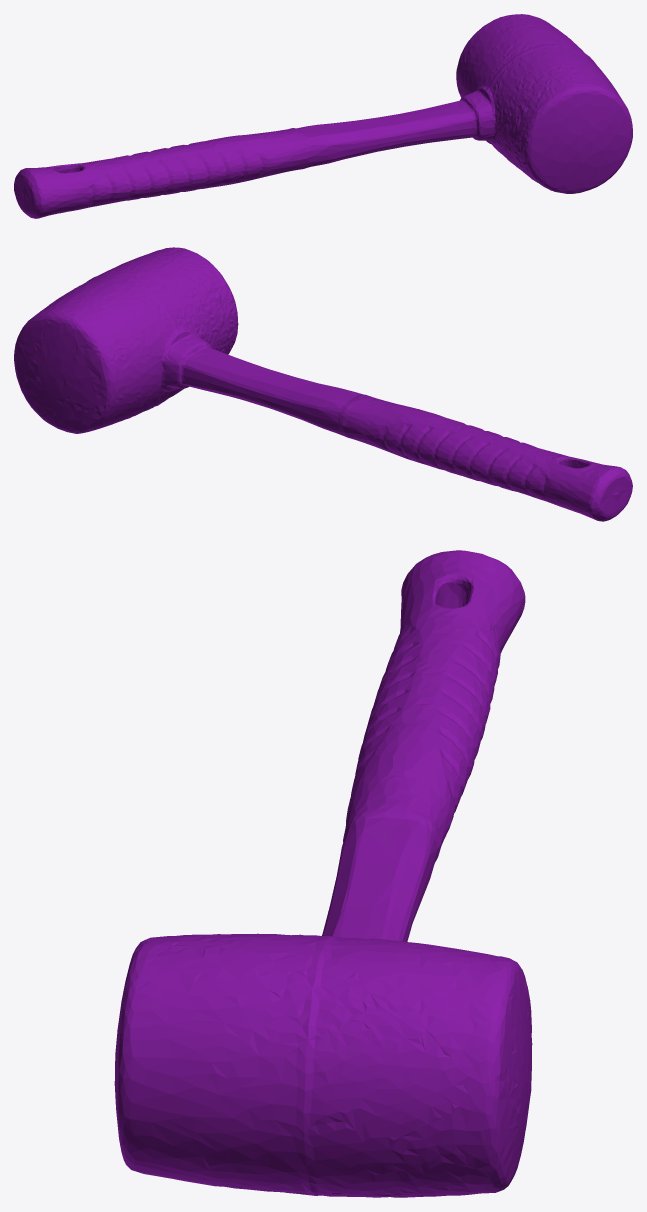
File: hammer_model_m.obj
3 views of the same model, one above another, from view 1: azimuth 30°, elevation 25°; view 2: azimuth 150°, elevation 25°; view 3: azimuth 270°, elevation 25° (orthographic). The views are drawn at different scales.
Parts seen in each view (by area): view 1: model.obj; view 2: model.obj; view 3: model.obj.
Part boxes in pixels (x1,y1,x2,y2): model.obj: (14, 14, 632, 218); model.obj: (14, 247, 632, 521); model.obj: (114, 550, 532, 1197).
Size of the model in its own units: 0.1459 by 0.03 by 0.048.
